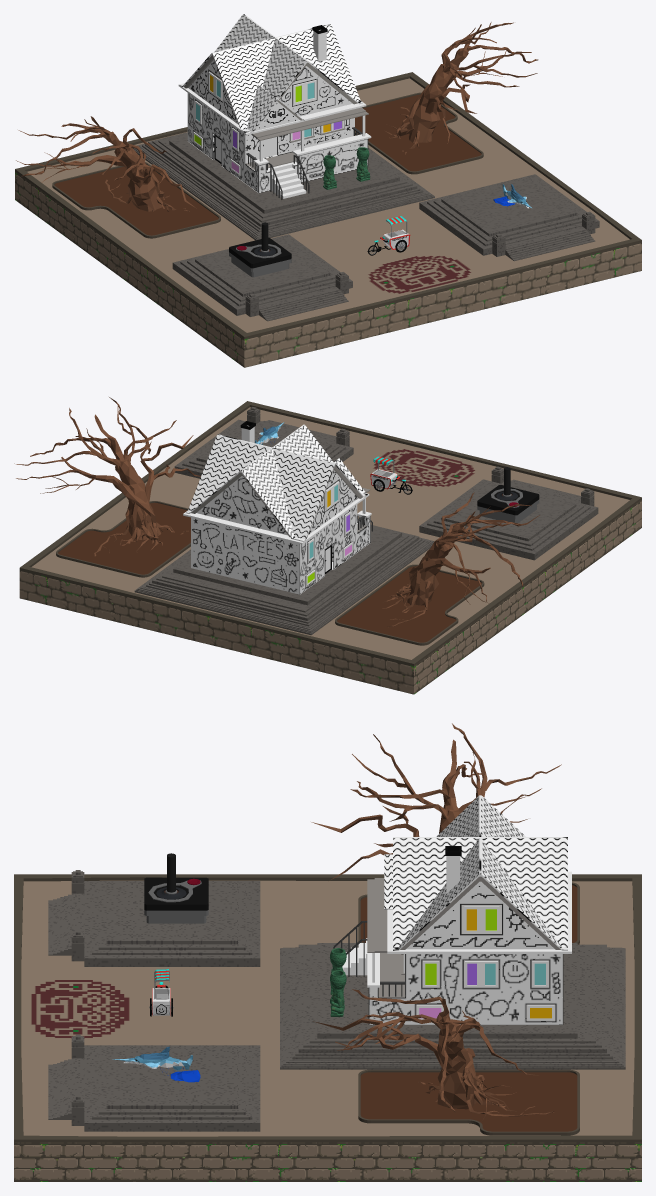
3 views of the same model, one above another, from view 1: azimuth 30°, elevation 25°; view 2: azimuth 150°, elevation 25°; view 3: azimuth 270°, elevation 25° (orthographic). The views are drawn at different scales.
Visible parts, largest first — view 1: Cube.011, Cube.879, OBJRANDOM_JOYSTICK, VEHICLES_SNOWBAL_BIKE; view 2: Cube.011, Cube.879, OBJRANDOM_JOYSTICK, VEHICLES_SNOWBAL_BIKE; view 3: Cube.011, Cube.879, OBJRANDOM_JOYSTICK, ANIMAL_PEZ_ESPADA, VEHICLES_SNOWBAL_BIKE.
Boxes of the visible parts, x1=… form: Cube.011: x1=15, y1=22, x2=641, y2=367; Cube.879: x1=178, y1=14, x2=371, y2=199; OBJRANDOM_JOYSTICK: x1=229, y1=222, x2=291, y2=277; VEHICLES_SNOWBAL_BIKE: x1=367, y1=216, x2=410, y2=255; Cube.011: x1=14, y1=397, x2=641, y2=694; Cube.879: x1=183, y1=421, x2=372, y2=594; OBJRANDOM_JOYSTICK: x1=477, y1=467, x2=539, y2=523; VEHICLES_SNOWBAL_BIKE: x1=370, y1=456, x2=412, y2=494; Cube.011: x1=14, y1=723, x2=641, y2=1181; Cube.879: x1=333, y1=795, x2=571, y2=1024; OBJRANDOM_JOYSTICK: x1=144, y1=853, x2=208, y2=923; ANIMAL_PEZ_ESPADA: x1=112, y1=1046, x2=200, y2=1082; VEHICLES_SNOWBAL_BIKE: x1=149, y1=969, x2=173, y2=1016.
Size of the model in its own units: 5099 by 1812 by 4000.
42 materials, 12 textured.
